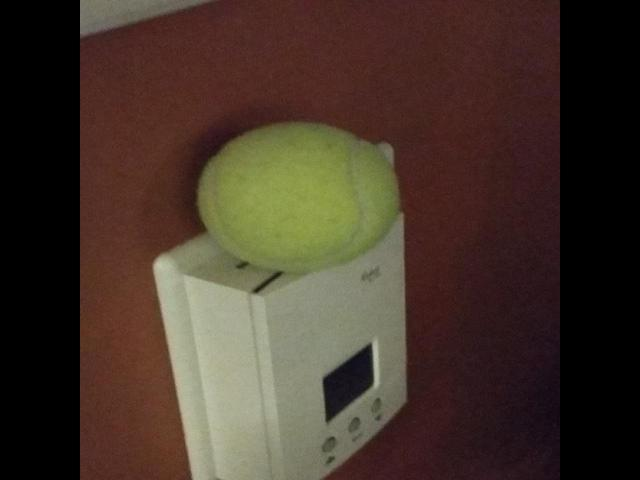tennis-ball: (194, 120, 402, 273)
